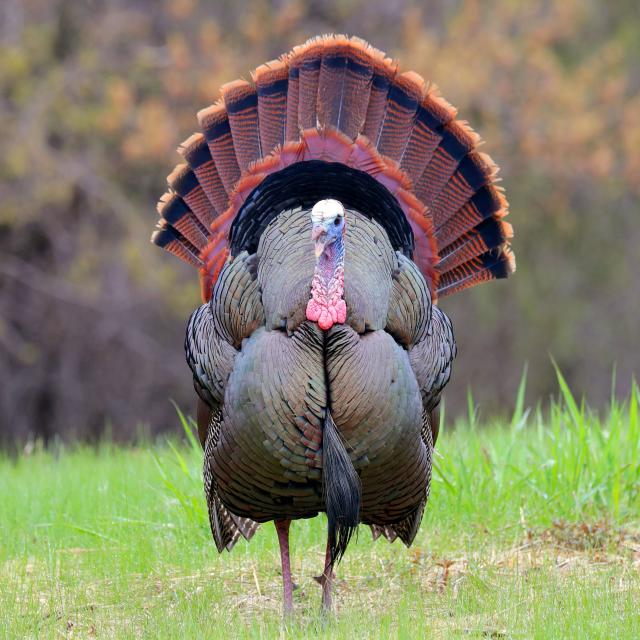turkey: (151, 36, 515, 624), (310, 337, 313, 343)
